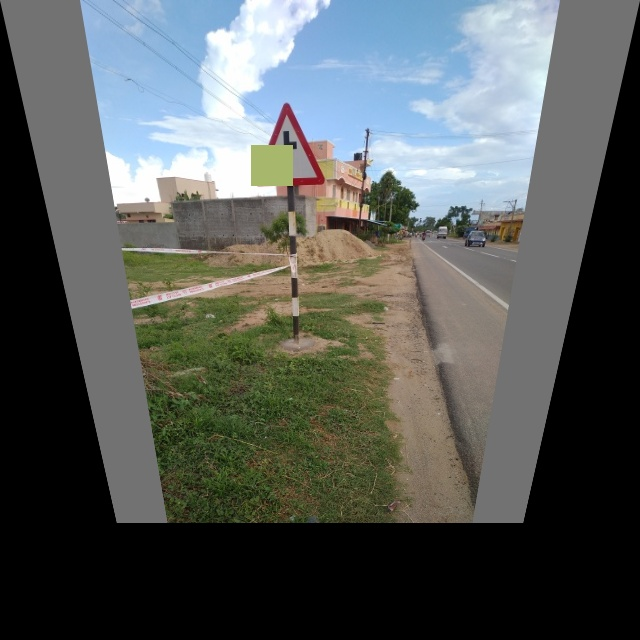Staggered_Intersection: (248, 98, 336, 195)
